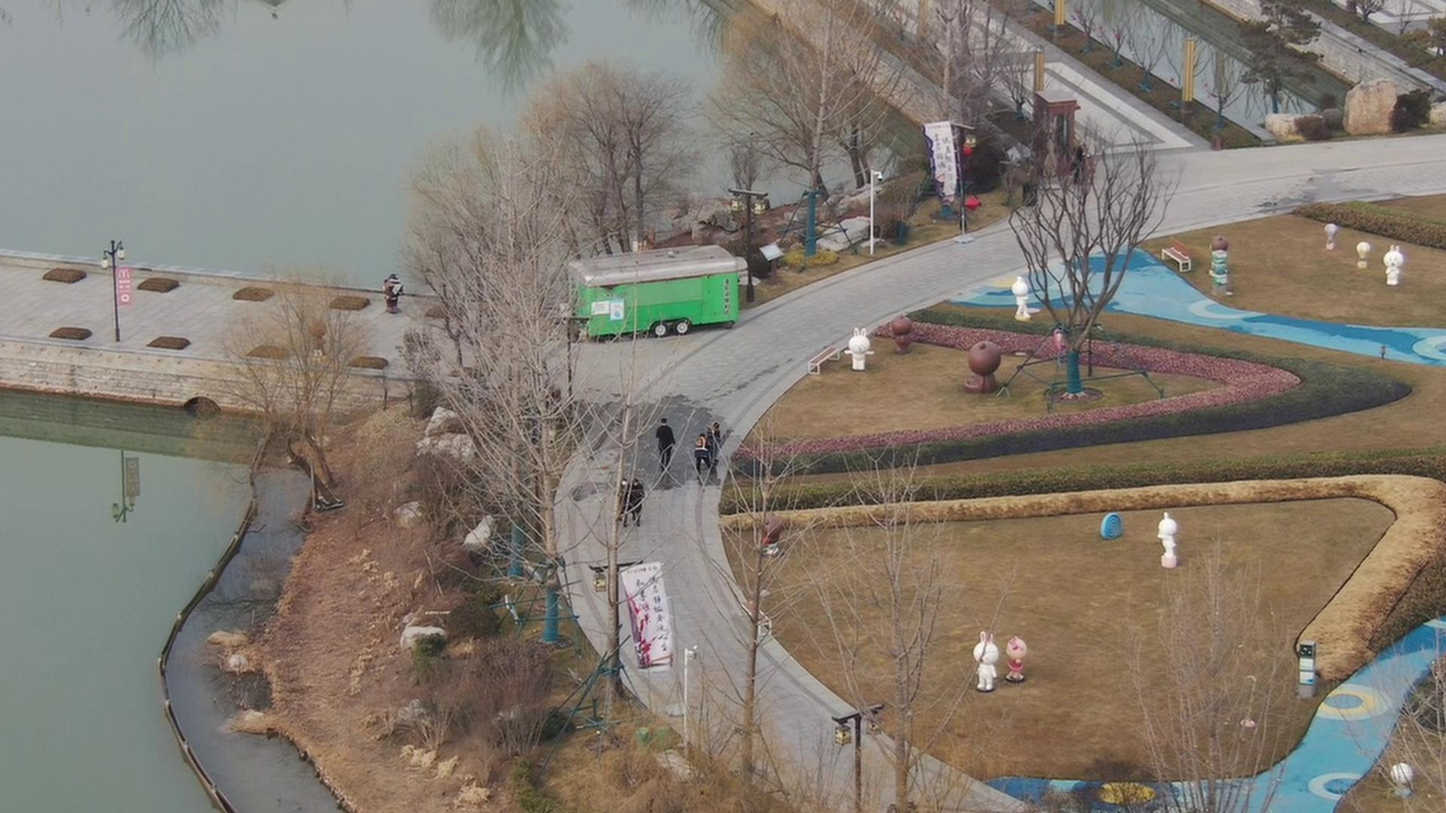class_2: (609, 470, 649, 535), (688, 420, 721, 483)
human: (647, 413, 679, 480)
